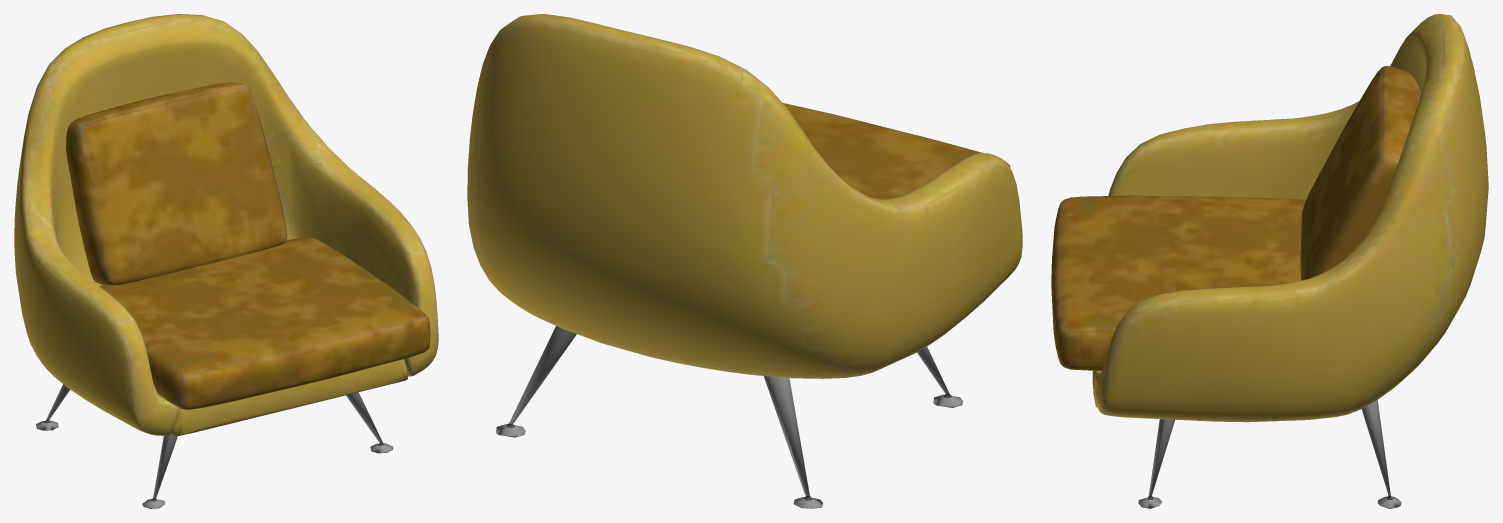
Rendered from sh-scopia-armchair2.glb.
3 renders of one model, left to right at view 1: azimuth 30°, elevation 25°; view 2: azimuth 150°, elevation 25°; view 3: azimuth 270°, elevation 25°, orthographic. The views are drawn at different scales.
Visible parts, largest first — view 1: butaque.002_Cube.218, butaque_potes.002_Tube.012; view 2: butaque.002_Cube.218, butaque_potes.002_Tube.012; view 3: butaque.002_Cube.218, butaque_potes.002_Tube.012.
Part boxes in pixels (x1,y1,x2,y2): butaque.002_Cube.218: [14, 14, 438, 436]; butaque_potes.002_Tube.012: [36, 384, 393, 508]; butaque.002_Cube.218: [467, 14, 1022, 378]; butaque_potes.002_Tube.012: [495, 326, 963, 508]; butaque.002_Cube.218: [1051, 14, 1488, 422]; butaque_potes.002_Tube.012: [1138, 400, 1401, 508].
Bounding box in the file's own units: 0.9989 × 0.9994 × 1.
Materials: 3 (1 with a texture image).
